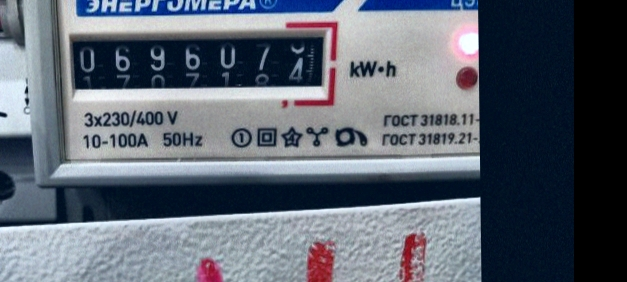0: (75, 44, 96, 74), (217, 41, 236, 70)
4: (284, 55, 303, 85)
6: (181, 42, 201, 73), (111, 44, 130, 73)
7: (252, 40, 270, 71)
9: (146, 43, 166, 72)
screen: (56, 15, 341, 110)
